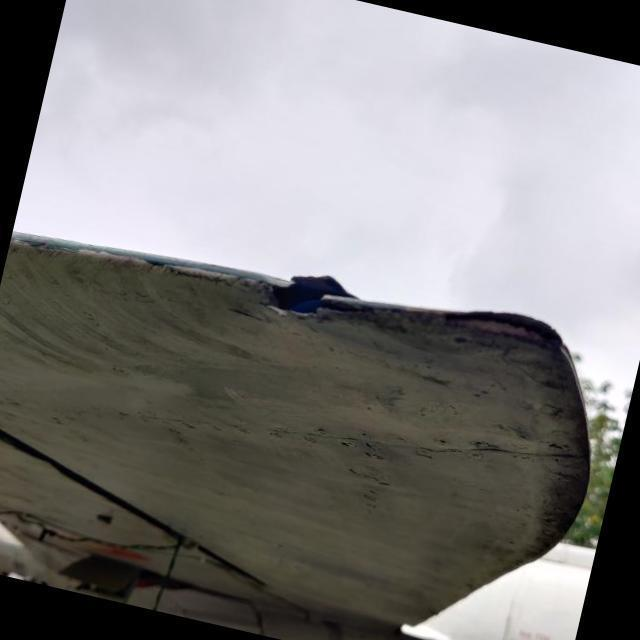Rupture: (239, 242, 378, 347)
